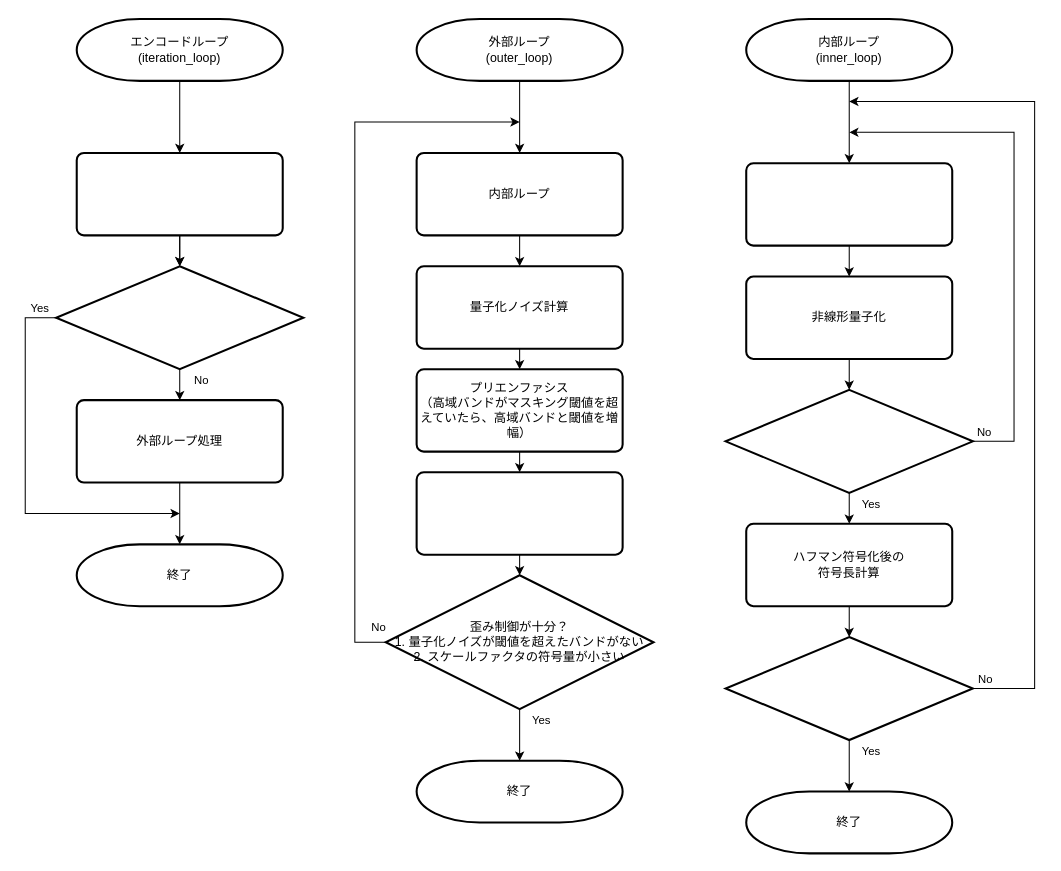
The diagram is 1061 pixels wide and 871 high, and some of its shapes have lost their labels. Here are the shapes that lost their labels. From the top down, the centre of each, then its label:
At pixel 179 193: "使用可能ビット数計算".
At pixel 849 204: "量子化ステップ幅を増加".
At pixel 179 317: "スペクトルの全値が0？".
At pixel 848 440: "最大の量子化値が 量子化テーブルの範囲内？".
At pixel 519 513: "歪み制御 （マスキング閾値を超えたスケールファクタバンドの量子化ステップ幅を細かくするなど）".
At pixel 848 688: "符号長が 使用可能ビット数以下？".
